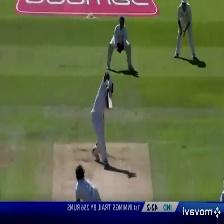batsman: (89, 72, 117, 169)
